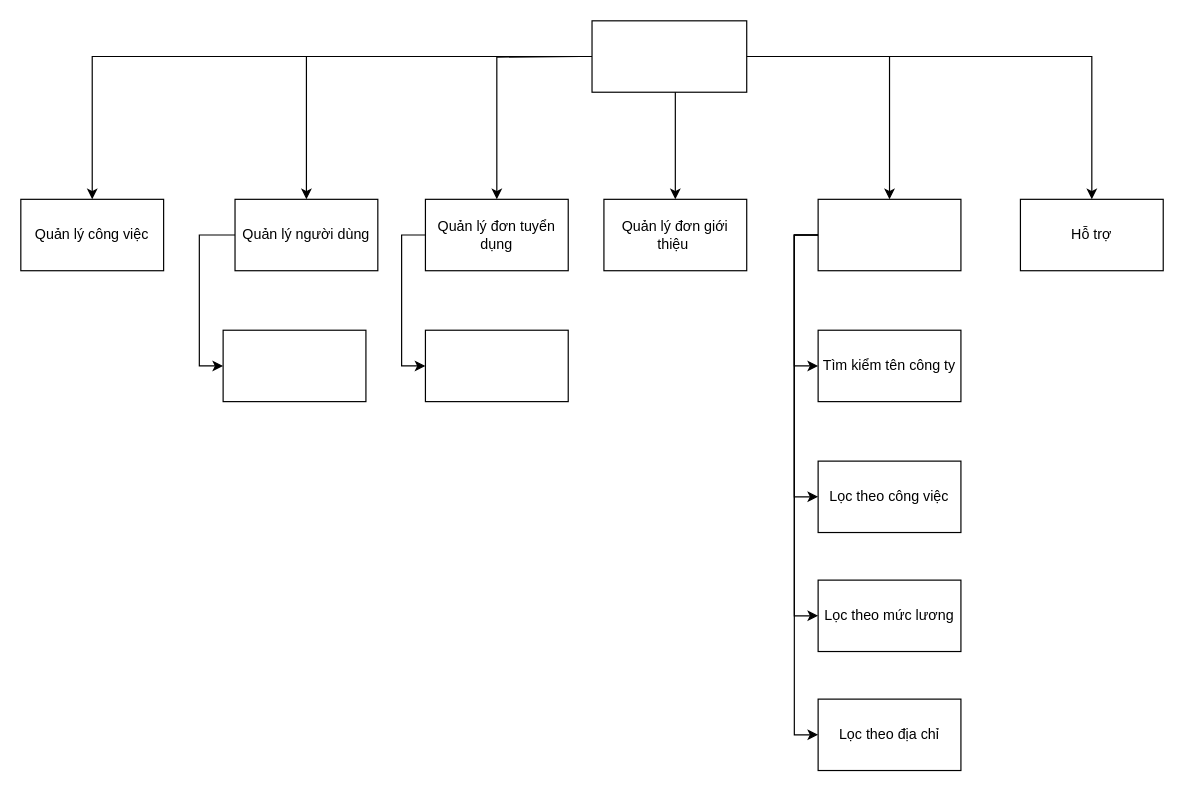
This 1184x791 diagram has some shape labels left out. Here are the shapes that lost their labels. From the top down, the centre of each, then its label:
At (x=669, y=56): "Website tuyển dụng".
At (x=889, y=234): "Tìm kiếm và lọc".
At (x=294, y=365): "Quản lý người tuyển dụng".
At (x=496, y=365): "Quản lý đơn ứng tuyển".
